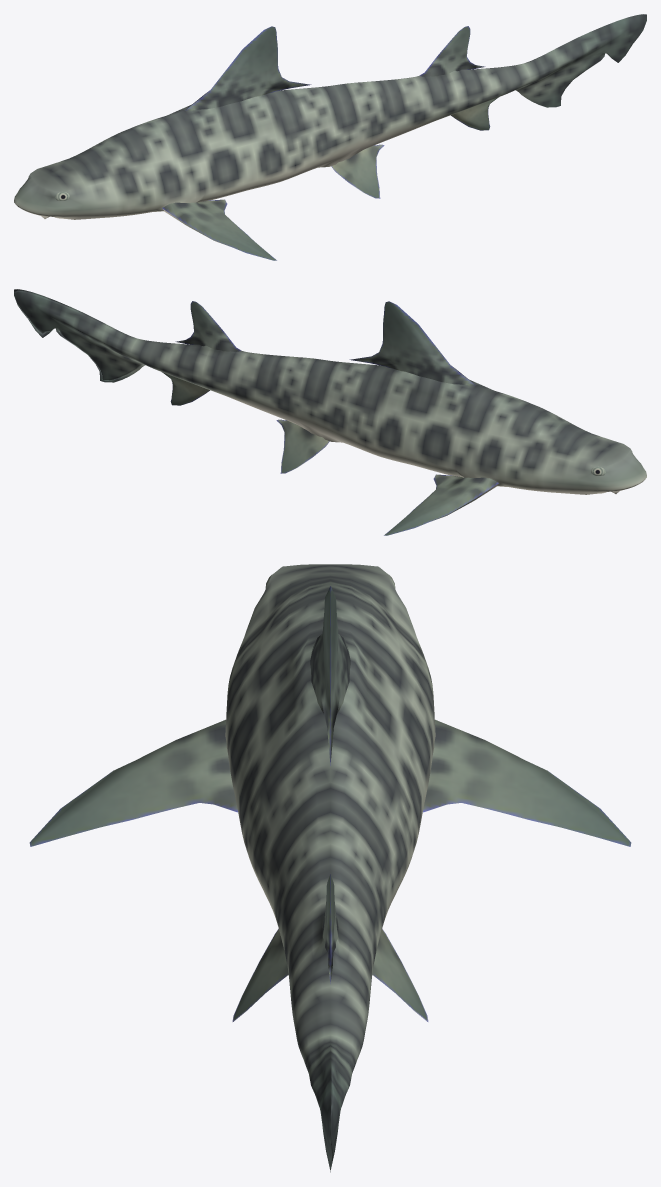
File: LeopardShark0.obj
3 renders of one model, top to bottom at view 1: azimuth 30°, elevation 25°; view 2: azimuth 150°, elevation 25°; view 3: azimuth 270°, elevation 25°, orthographic. The views are drawn at different scales.
Visible parts, largest first — view 1: object, object2, object5, object7, object12, object14; view 2: object, object2, object6, object8, object12, object15; view 3: object, object5, object6, object2, object7, object8, object12.
Boxes of the visible parts, x1=… form: object: x1=14, y1=14, x2=646, y2=219; object2: x1=185, y1=26, x2=311, y2=110; object5: x1=162, y1=199, x2=276, y2=260; object7: x1=331, y1=144, x2=383, y2=197; object12: x1=28, y1=26, x2=485, y2=176; object14: x1=451, y1=97, x2=498, y2=130; object: x1=14, y1=289, x2=646, y2=494; object2: x1=349, y1=301, x2=475, y2=385; object6: x1=384, y1=474, x2=498, y2=535; object8: x1=277, y1=419, x2=329, y2=472; object12: x1=175, y1=301, x2=605, y2=475; object15: x1=162, y1=372, x2=209, y2=405; object: x1=225, y1=564, x2=435, y2=1172; object5: x1=29, y1=719, x2=237, y2=846; object6: x1=423, y1=719, x2=631, y2=846; object2: x1=310, y1=586, x2=350, y2=765; object7: x1=233, y1=929, x2=288, y2=1021; object8: x1=372, y1=929, x2=427, y2=1021; object12: x1=322, y1=575, x2=395, y2=983.
Size of the model in its own units: 0.3997 by 0.1061 by 0.1651.
